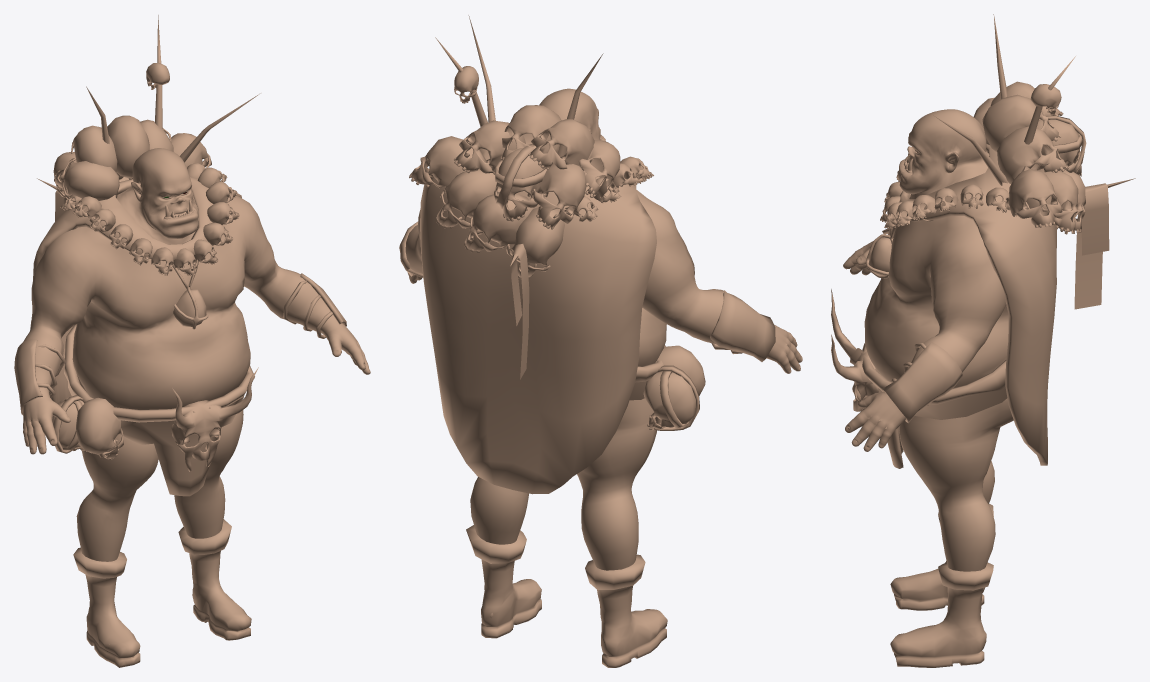
The model's file is Orco2-6_LP.fbx.
3 renders of one model, left to right at view 1: azimuth 30°, elevation 25°; view 2: azimuth 150°, elevation 25°; view 3: azimuth 270°, elevation 25°, orthographic. The views are drawn at different scales.
Parts seen in each view (by area): view 1: Cuerpo, botas, CraneoGrande 0, Taparabos, Collar.001, Capa, Craneos Cinturon, CraneoCinturon, Brazal, espinas, Gema1, Craneos Cinturon.001; view 2: Capa, Cuerpo, CraneoGrande 0, botas, Brazal, Craneos Cinturon, Collar.001, Tela, espinas, CraneoGrande 0.001, Craneos Cinturon.001, CraneoPequeño (+1 smaller); view 3: Cuerpo, Capa, CraneoGrande 0, botas, Taparabos, Brazal, Tela, Collar.001, CraneoCinturon, espinas, Gema1, CraneoPequeño (+1 smaller).
Part boxes in pixels (x1,y1,x2,y2): Cuerpo: (23, 148, 370, 647); botas: (73, 519, 251, 667); CraneoGrande 0: (53, 115, 211, 210); Taparabos: (64, 324, 254, 496); Collar.001: (60, 163, 239, 275); Capa: (33, 177, 241, 403); Craneos Cinturon: (52, 397, 123, 459); CraneoCinturon: (171, 367, 258, 471); Brazal: (14, 273, 346, 414); espinas: (37, 15, 260, 189); Gema1: (173, 289, 206, 326); Craneos Cinturon.001: (53, 395, 82, 453); Capa: (420, 170, 656, 494); Cuerpo: (405, 88, 802, 624); CraneoGrande 0: (409, 105, 620, 278); botas: (466, 525, 667, 667); Brazal: (399, 221, 775, 361); Craneos Cinturon: (643, 345, 705, 430); Collar.001: (467, 140, 653, 221); Tela: (511, 244, 529, 379); espinas: (435, 15, 603, 266); CraneoGrande 0.001: (495, 143, 546, 208); Craneos Cinturon.001: (654, 365, 699, 430); CraneoPequeño: (454, 66, 478, 103); Cuerpo: (843, 109, 1013, 571); Capa: (899, 144, 1056, 465); CraneoGrande 0: (973, 81, 1085, 234); botas: (890, 503, 993, 667); Taparabos: (861, 343, 1007, 468); Brazal: (882, 227, 962, 423); Tela: (1074, 183, 1109, 309); Collar.001: (880, 169, 1009, 228); CraneoCinturon: (831, 289, 878, 411); espinas: (933, 14, 1135, 187); Gema1: (868, 237, 891, 275); CraneoPequeño: (1030, 84, 1061, 115).
Size of the model in its own units: 1014 by 1610 by 733.
